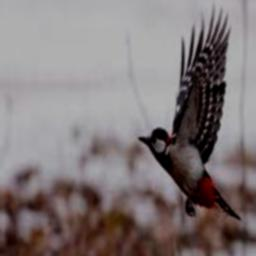Woodpecker: (138, 2, 241, 223)
